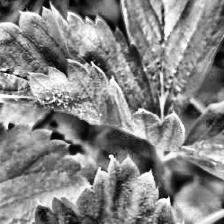Powdery Mildew Leaf: (0, 0, 196, 156)
